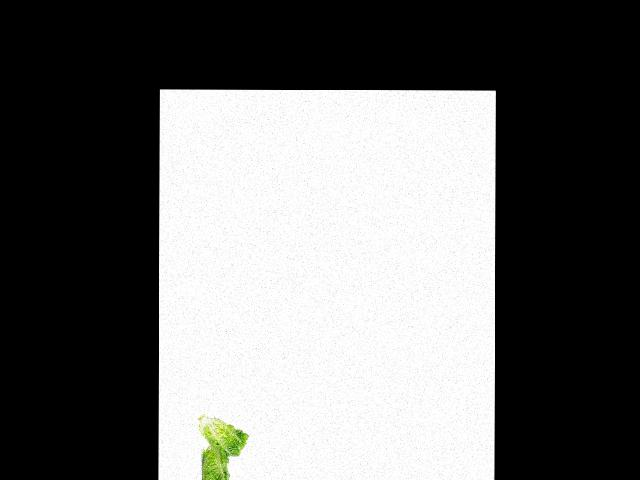lettuce: (194, 413, 247, 462)
